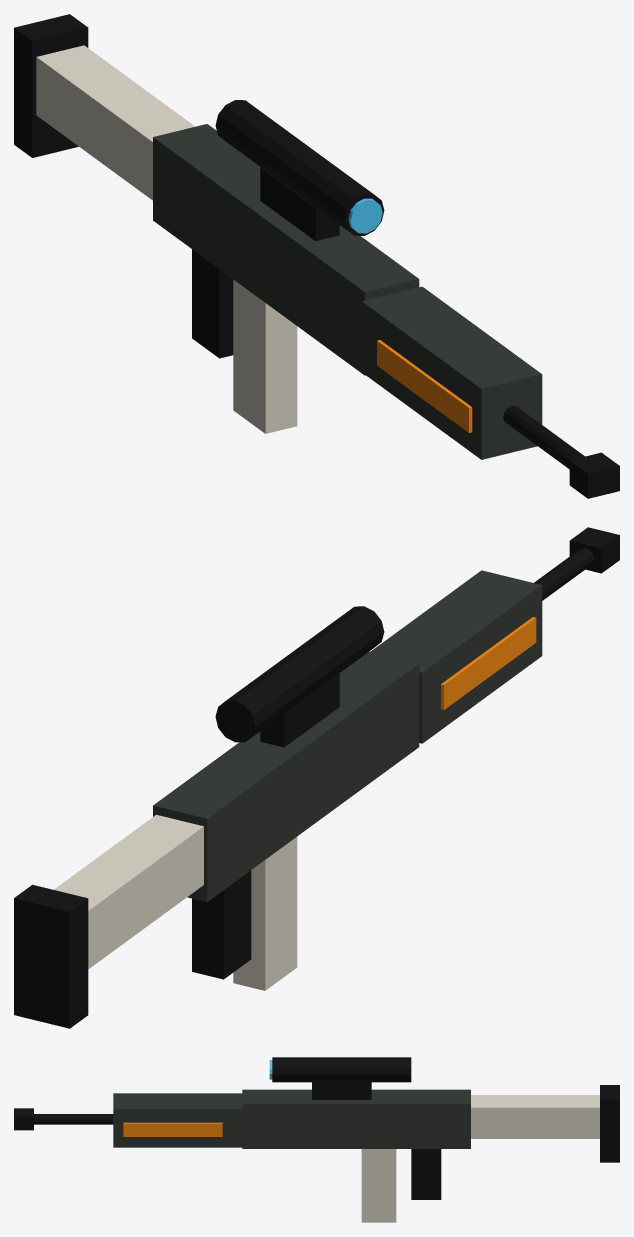
File: weapon_F1_BattleRifle.obj
The picture shows the model from 3 angles, top to bottom: view 1: azimuth 30°, elevation 25°; view 2: azimuth 150°, elevation 25°; view 3: azimuth 270°, elevation 25°; orthographic projection. The views are drawn at different scales.
Visible parts, largest first — view 1: F1_BattleRifle_WBody, F1_BattleRifle_WDark, F1_BattleRifle_WPanel, F1_BattleRifle_Mag, F1_BattleRifle_WAccent, F1_BattleRifle_Optic; view 2: F1_BattleRifle_WBody, F1_BattleRifle_WDark, F1_BattleRifle_WPanel, F1_BattleRifle_Mag, F1_BattleRifle_WAccent; view 3: F1_BattleRifle_WBody, F1_BattleRifle_WDark, F1_BattleRifle_WPanel, F1_BattleRifle_Mag, F1_BattleRifle_WAccent.
Boxes of the visible parts, <box> form: F1_BattleRifle_WBody: <box>153,124,542,459</box>; F1_BattleRifle_WDark: <box>14,14,619,498</box>; F1_BattleRifle_WPanel: <box>36,45,194,200</box>; F1_BattleRifle_Mag: <box>233,279,297,433</box>; F1_BattleRifle_WAccent: <box>377,340,472,432</box>; F1_BattleRifle_Optic: <box>348,198,382,233</box>; F1_BattleRifle_WBody: <box>153,570,542,902</box>; F1_BattleRifle_WDark: <box>14,527,619,1028</box>; F1_BattleRifle_WPanel: <box>54,814,203,969</box>; F1_BattleRifle_Mag: <box>233,837,297,990</box>; F1_BattleRifle_WAccent: <box>441,617,536,709</box>; F1_BattleRifle_WBody: <box>113,1089,470,1148</box>; F1_BattleRifle_WDark: <box>14,1057,619,1199</box>; F1_BattleRifle_WPanel: <box>471,1095,599,1138</box>; F1_BattleRifle_Mag: <box>361,1149,396,1222</box>; F1_BattleRifle_WAccent: <box>123,1122,222,1136</box>.
Size of the model in its own units: 0.084 by 0.355 by 1.22.
